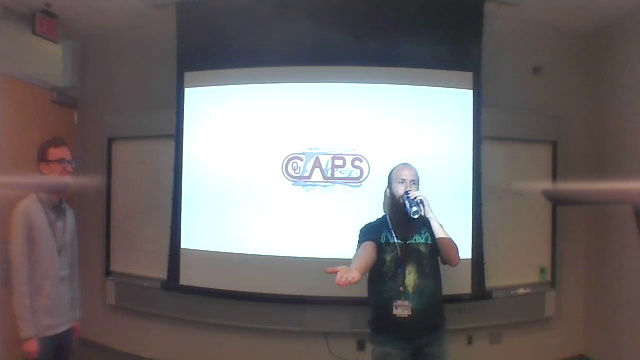land: (322, 260, 367, 291)
